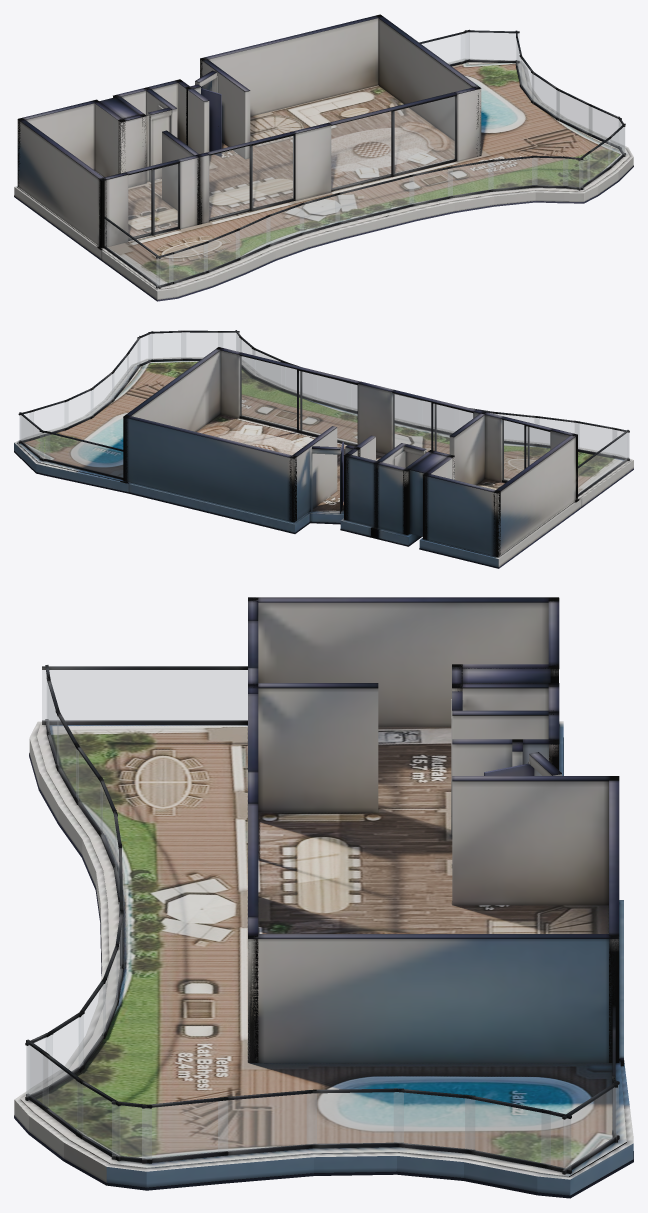
3 renders of one model, top to bottom at view 1: azimuth 30°, elevation 25°; view 2: azimuth 150°, elevation 25°; view 3: azimuth 270°, elevation 25°, orthographic. The views are drawn at different scales.
Visible parts, largest first — view 1: plan, glass2_m, glass1_m, glass0_m, railg18_m, railg25_m, railg2_m, railg15_m, railg16_m, railg17_m, railg20_m, railg24_m (+12 smaller); view 2: plan, glass2_m, glass1_m, railg0_m, glass0_m, railg25_m, railg10_m, railg11_m, railg24_m, railg4_m, railg5_m, railg17_m (+11 smaller); view 3: plan, railg25_m, railg7_m, railg6_m, railg8_m, railg4_m, railg5_m, railg2_m, railg10_m, railg9_m, railg11_m, railg14_m (+6 smaller).
Boxes of the visible parts, left/top/right/bottom form: plan: left=14, top=14, right=633, bottom=301; glass2_m: left=331, top=96, right=454, bottom=188; glass1_m: left=209, top=136, right=293, bottom=218; glass0_m: left=128, top=164, right=177, bottom=238; railg18_m: left=335, top=176, right=413, bottom=222; railg25_m: left=104, top=219, right=159, bottom=285; railg2_m: left=466, top=32, right=519, bottom=60; railg15_m: left=488, top=158, right=536, bottom=189; railg16_m: left=448, top=162, right=492, bottom=196; railg17_m: left=409, top=168, right=452, bottom=204; railg20_m: left=300, top=195, right=339, bottom=232; railg24_m: left=169, top=243, right=207, bottom=282; plan: left=14, top=330, right=633, bottom=568; glass2_m: left=240, top=356, right=357, bottom=443; glass1_m: left=393, top=393, right=472, bottom=453; railg0_m: left=45, top=433, right=122, bottom=477; glass0_m: left=502, top=420, right=549, bottom=480; railg25_m: left=578, top=433, right=627, bottom=493; railg10_m: left=149, top=332, right=185, bottom=359; railg11_m: left=181, top=332, right=222, bottom=358; railg24_m: left=575, top=423, right=616, bottom=454; railg4_m: left=29, top=401, right=68, bottom=436; railg5_m: left=65, top=390, right=93, bottom=427; railg17_m: left=318, top=376, right=346, bottom=408; plan: left=14, top=597, right=633, bottom=1198; railg25_m: left=42, top=670, right=247, bottom=720; railg7_m: left=218, top=1093, right=316, bottom=1151; railg6_m: left=307, top=1092, right=403, bottom=1144; railg8_m: left=142, top=1100, right=227, bottom=1159; railg4_m: left=465, top=1098, right=550, bottom=1164; railg5_m: left=394, top=1092, right=474, bottom=1149; railg2_m: left=563, top=1085, right=618, bottom=1170; railg10_m: left=77, top=1082, right=119, bottom=1157; railg9_m: left=112, top=1104, right=151, bottom=1159; railg11_m: left=43, top=1055, right=82, bottom=1134; railg14_m: left=46, top=1015, right=83, bottom=1083.
Bounding box in the file's own units: 17.84 × 2.62 × 10.2.
2 materials, 1 textured.
